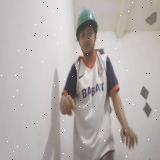Helmet: (75, 7, 99, 37)
